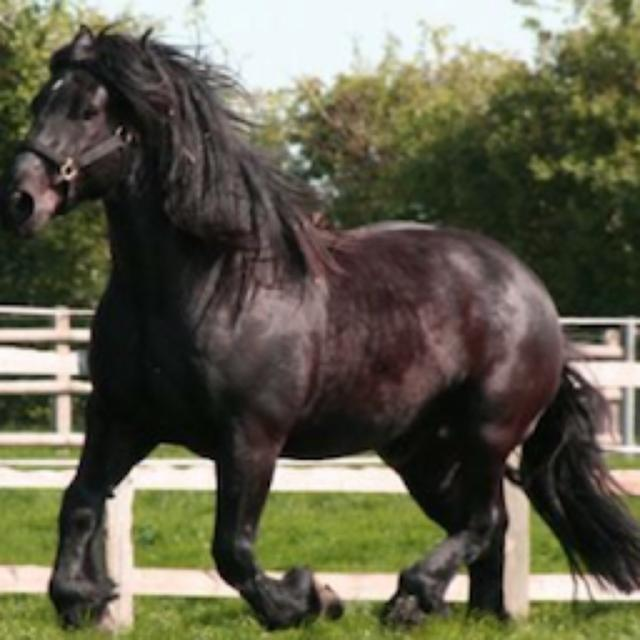Horse: (2, 18, 640, 638)
